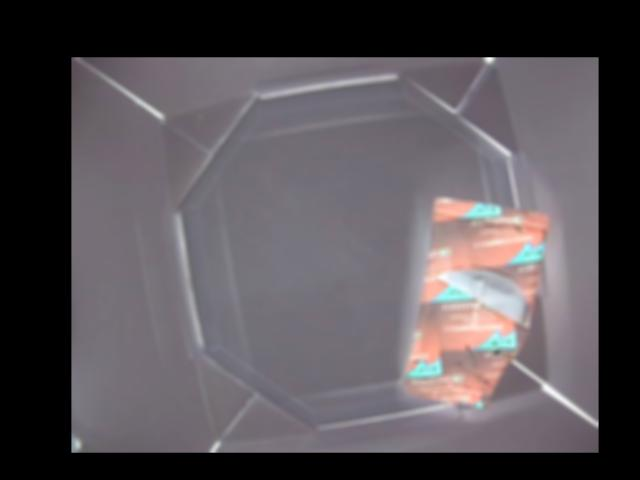Medicine: (401, 195, 549, 410)
